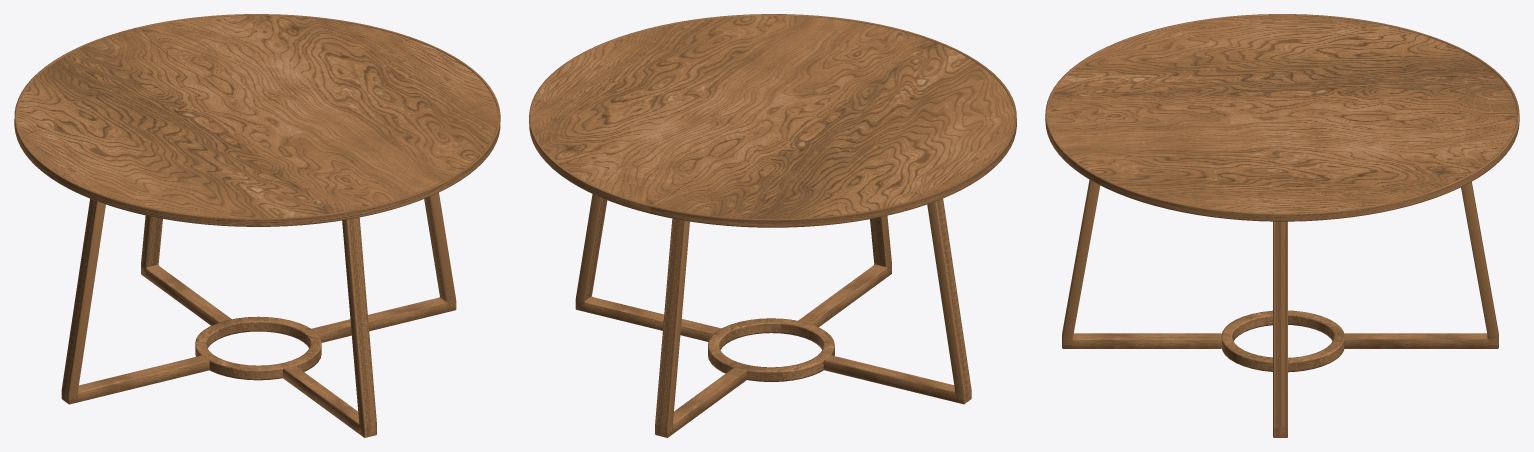
The model's file is mesa.obj.
3 renders of one model, left to right at view 1: azimuth 30°, elevation 25°; view 2: azimuth 150°, elevation 25°; view 3: azimuth 270°, elevation 25°, orthographic. The views are drawn at different scales.
Parts seen in each view (by area): view 1: Cilindro001, Tubo002, Caixa006, Caixa007, Tubo001, Caixa008, Caixa009; view 2: Cilindro001, Tubo002, Caixa006, Caixa009, Tubo001, Caixa008, Caixa007; view 3: Cilindro001, Tubo002, Caixa007, Caixa009, Tubo001, Caixa008.
Part boxes in pixels (x1,y1,x2,y2): Cilindro001: (17,15,497,218); Tubo002: (14,14,500,226); Caixa006: (61,198,209,404); Caixa007: (283,217,376,437); Tubo001: (195,316,321,380); Caixa008: (311,192,456,342); Caixa009: (141,215,231,325); Cilindro001: (531,15,1014,218); Tubo002: (529,14,1016,227); Caixa006: (823,198,971,404); Caixa009: (655,218,747,437); Tubo001: (708,318,834,381); Caixa008: (575,194,721,341); Caixa007: (798,216,891,327); Cilindro001: (1048,15,1516,213); Tubo002: (1045,14,1519,221); Caixa007: (1062,179,1221,348); Caixa009: (1344,181,1498,348); Tubo001: (1221,310,1344,372); Caixa008: (1273,221,1287,437).
Bounding box in the file's own units: 224 × 121 × 224.
4 materials, 4 textured.
